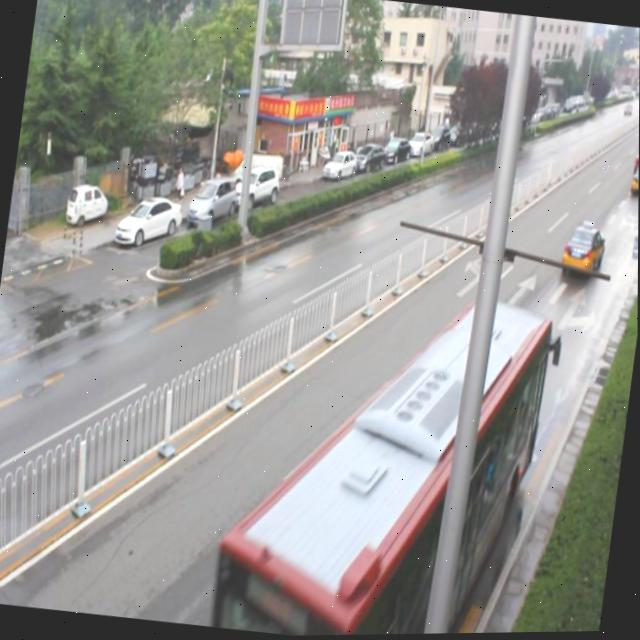car: (558, 218, 605, 278), (628, 159, 639, 196)
van: (209, 266, 563, 638)
